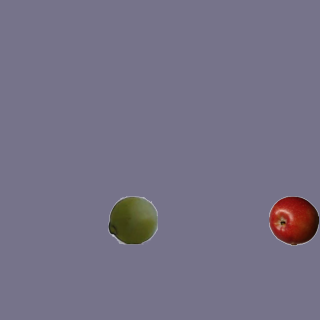Apple Braeburn: (268, 195, 318, 245)
Grape White 4: (107, 194, 157, 244)
